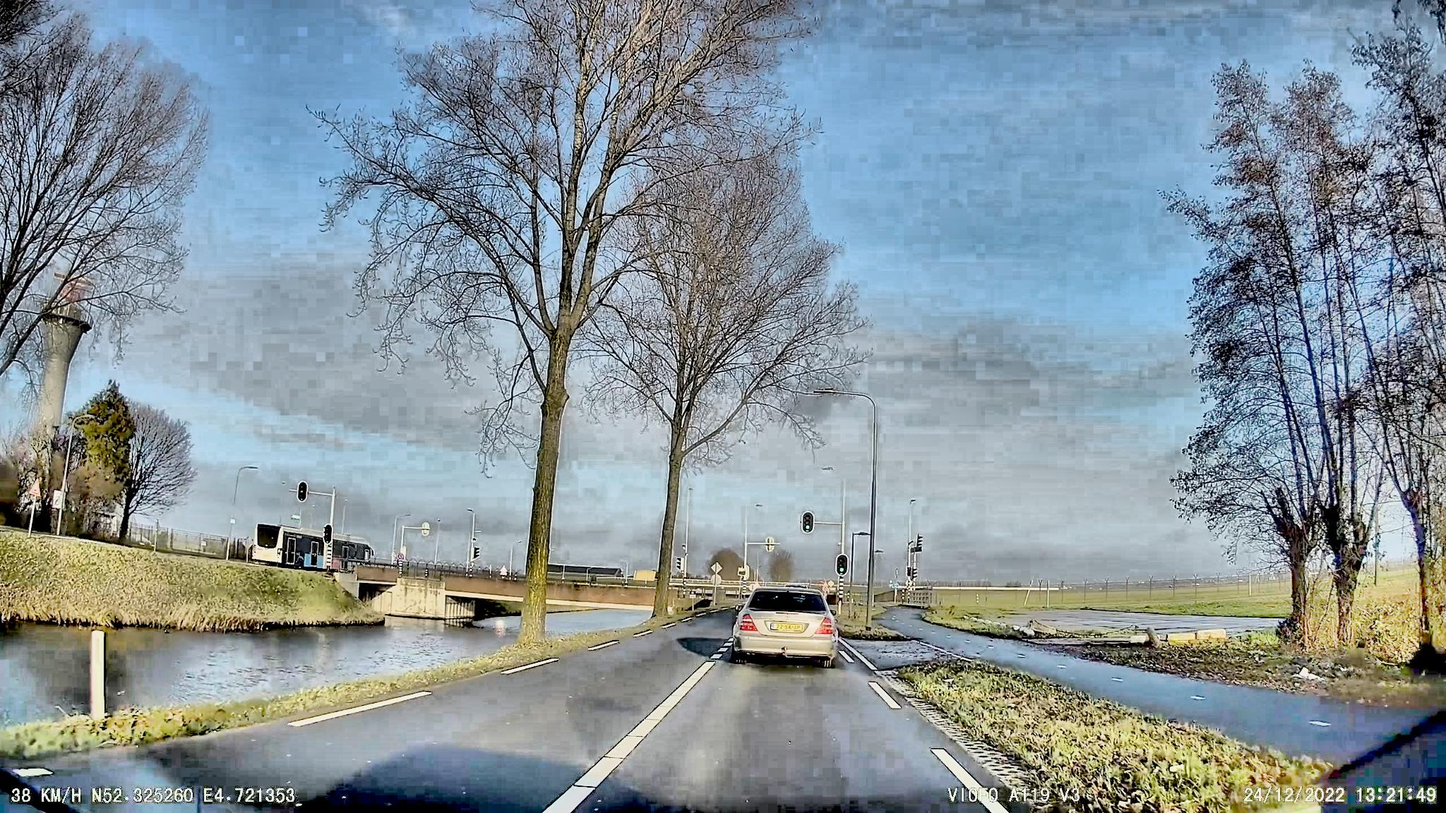Roads: (8, 611, 1040, 813)
